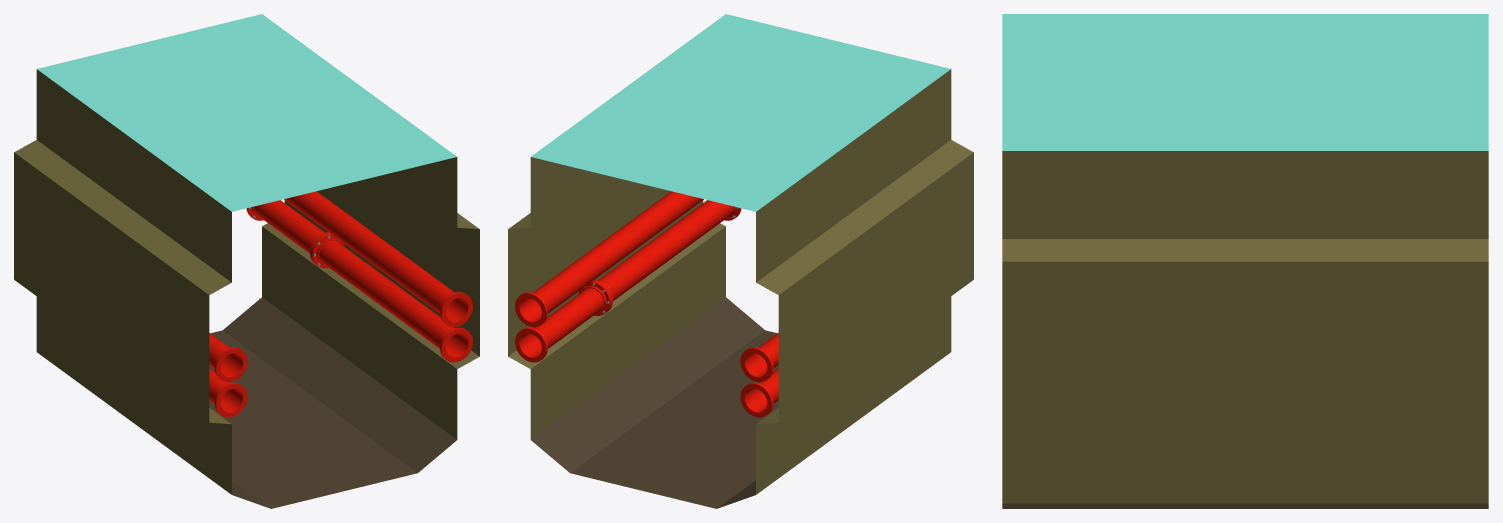
The model's file is Straight_.fbx.
The picture shows the model from 3 angles, left to right: view 1: azimuth 30°, elevation 25°; view 2: azimuth 150°, elevation 25°; view 3: azimuth 270°, elevation 25°; orthographic projection. The views are drawn at different scales.
Parts seen in each view (by area): view 1: Straight_, Pipe_200_Straight_1m.003, Pipe_200_Straight_1m.005, Pipe_200_Straight_2m.002, Pipe_200_Straight_1m.015, Pipe_200_Straight_1m.006; view 2: Straight_, Pipe_200_Straight_1m.003, Pipe_200_Straight_1m.005, Pipe_200_Straight_2m.002, Pipe_200_Straight_1m.015, Pipe_200_Straight_2m.003; view 3: Straight_.
Part boxes in pixels (x1,y1,x2,y2): Straight_: (14, 14, 479, 508); Pipe_200_Straight_1m.003: (284, 191, 472, 327); Pipe_200_Straight_1m.005: (311, 233, 472, 362); Pipe_200_Straight_2m.002: (246, 200, 329, 263); Pipe_200_Straight_1m.015: (209, 333, 247, 381); Pipe_200_Straight_1m.006: (209, 368, 247, 417); Straight_: (508, 14, 973, 508); Pipe_200_Straight_1m.003: (515, 191, 703, 327); Pipe_200_Straight_1m.005: (593, 200, 741, 311); Pipe_200_Straight_2m.002: (515, 281, 611, 362); Pipe_200_Straight_1m.015: (740, 333, 778, 381); Pipe_200_Straight_2m.003: (740, 368, 778, 417); Straight_: (1002, 14, 1488, 508).
Size of the model in its own units: 2.4 by 2.6 by 3.
